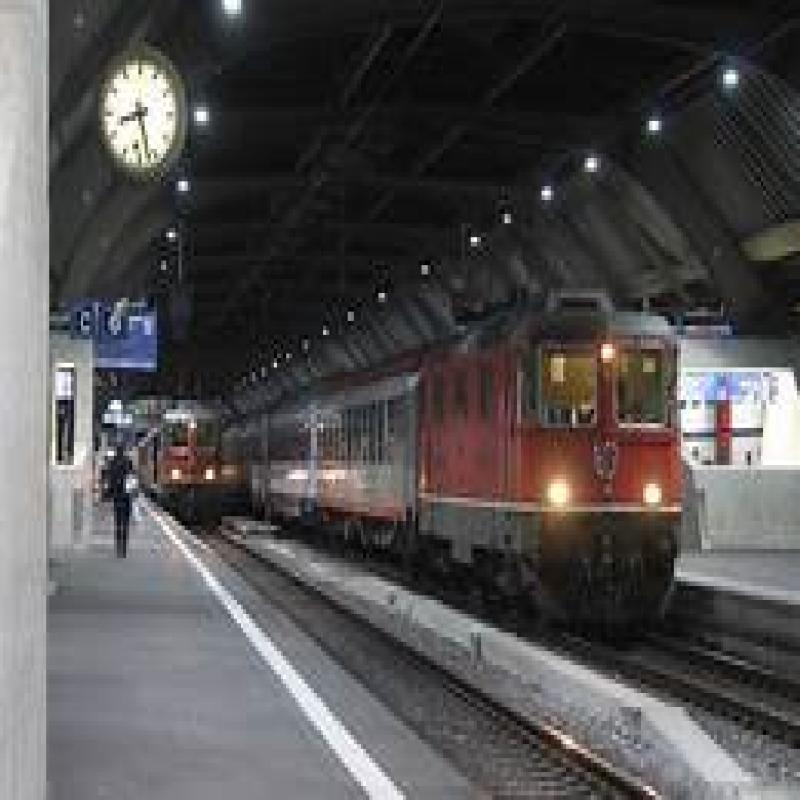train: (275, 350, 684, 596)
